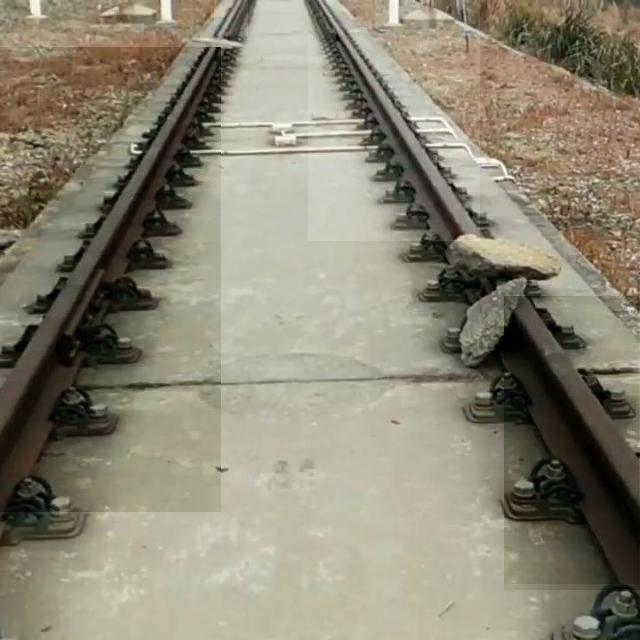rail: (2, 49, 222, 513), (310, 1, 481, 242), (505, 300, 640, 591), (506, 298, 640, 585), (216, 1, 249, 37)
